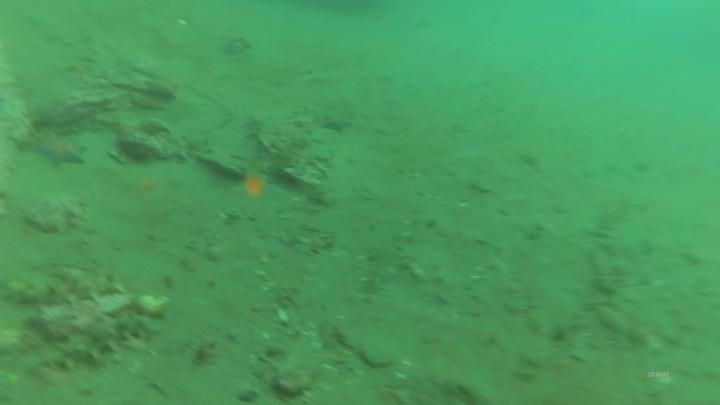holothurian: (38, 309, 159, 376), (1, 263, 128, 312)
starfish: (230, 164, 278, 212), (31, 133, 89, 171), (142, 72, 182, 104), (60, 51, 98, 78)
